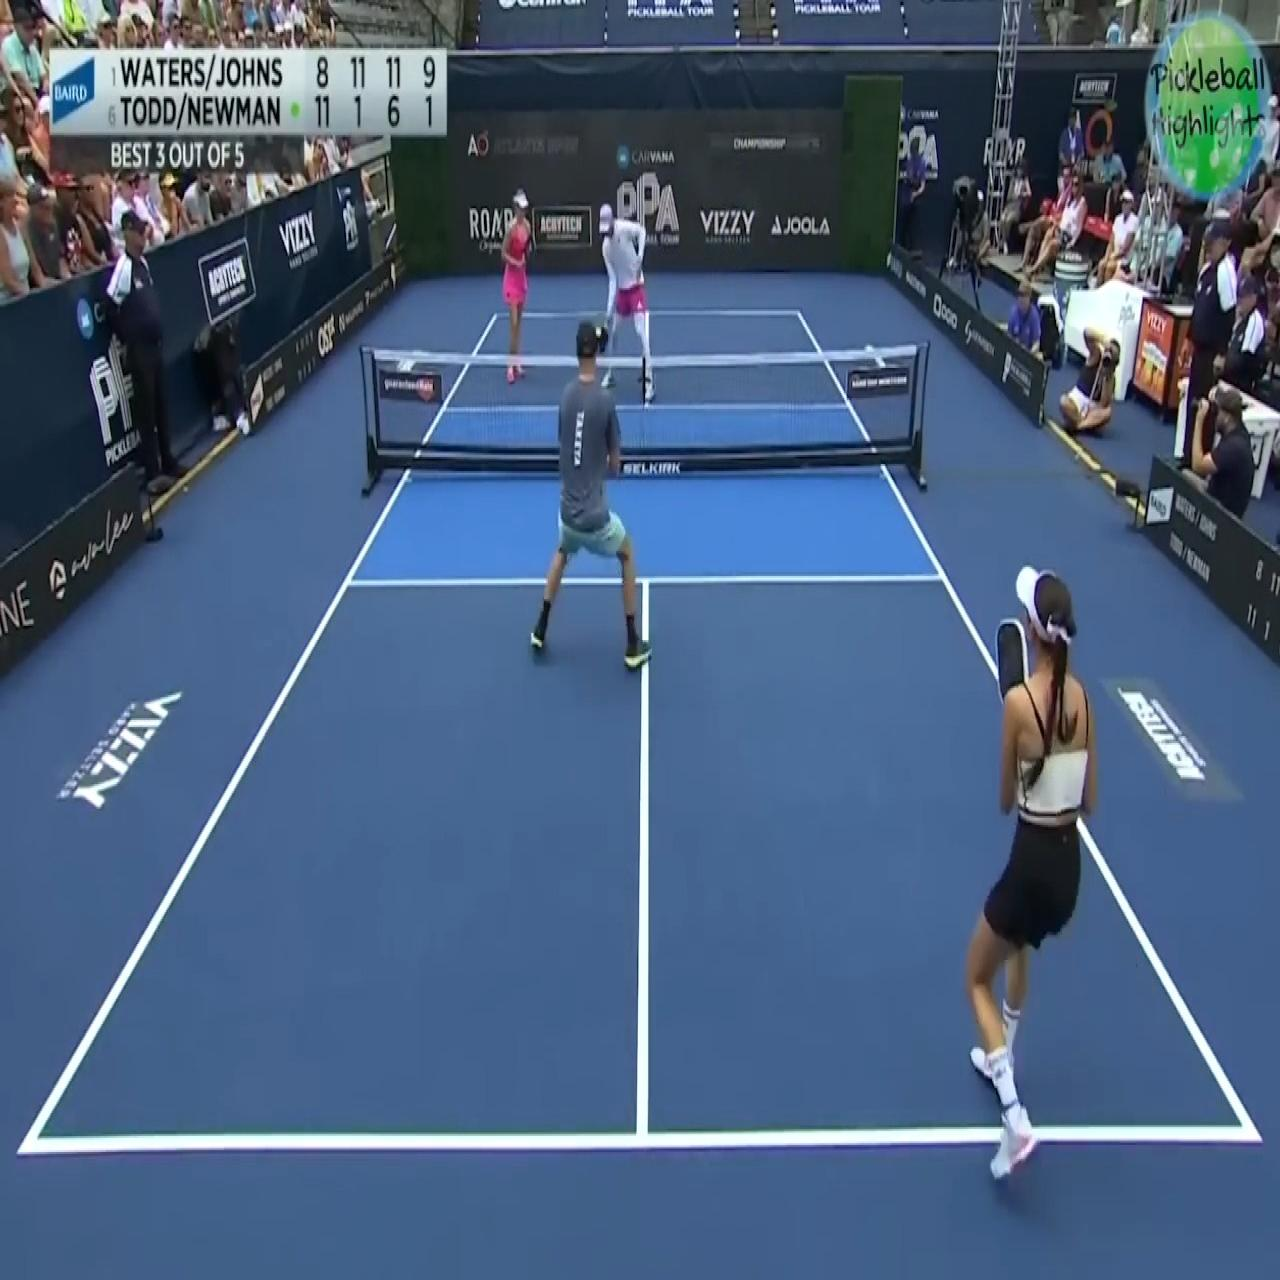Pickleball: (594, 318, 605, 338)
